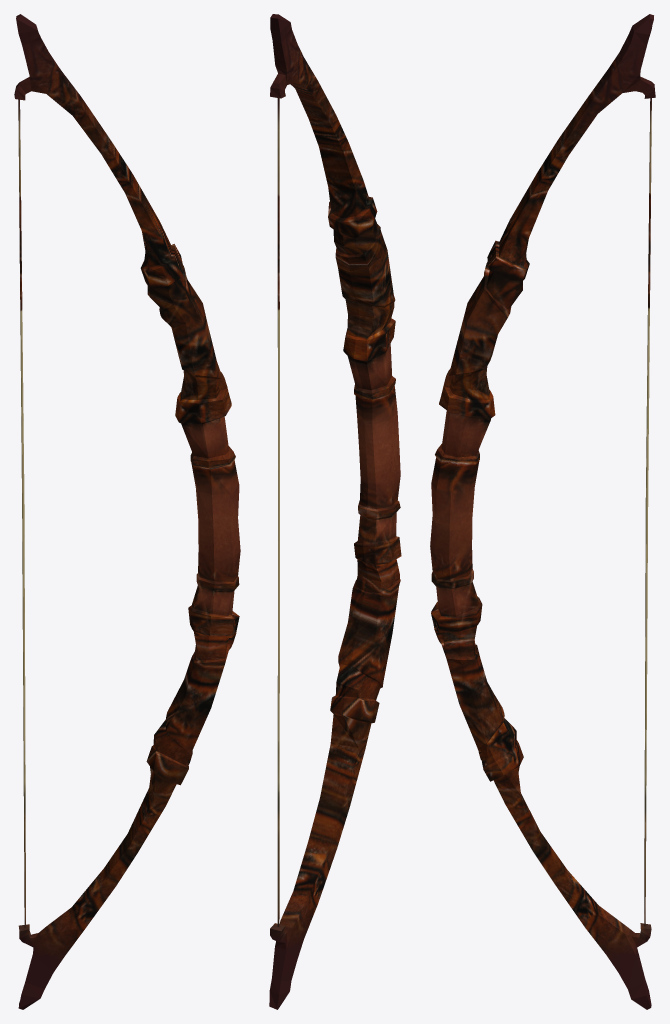
File: Bow.OBJ
The picture shows the model from 3 angles, left to right: view 1: azimuth 90°, elevation 25°; view 2: azimuth 150°, elevation 25°; view 3: azimuth 270°, elevation 25°; orthographic projection.
Visible parts, largest first — view 1: ZBrush_defualt_group; view 2: ZBrush_defualt_group; view 3: ZBrush_defualt_group.
Boxes of the visible parts, box(x1,y1,x2,y2) form: ZBrush_defualt_group: box(14, 14, 240, 1009); ZBrush_defualt_group: box(269, 14, 401, 1009); ZBrush_defualt_group: box(430, 14, 655, 1009).
Size of the model in its own units: 0.1164 by 2.51 by 0.5169.
